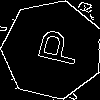P: (27, 25, 81, 68)
